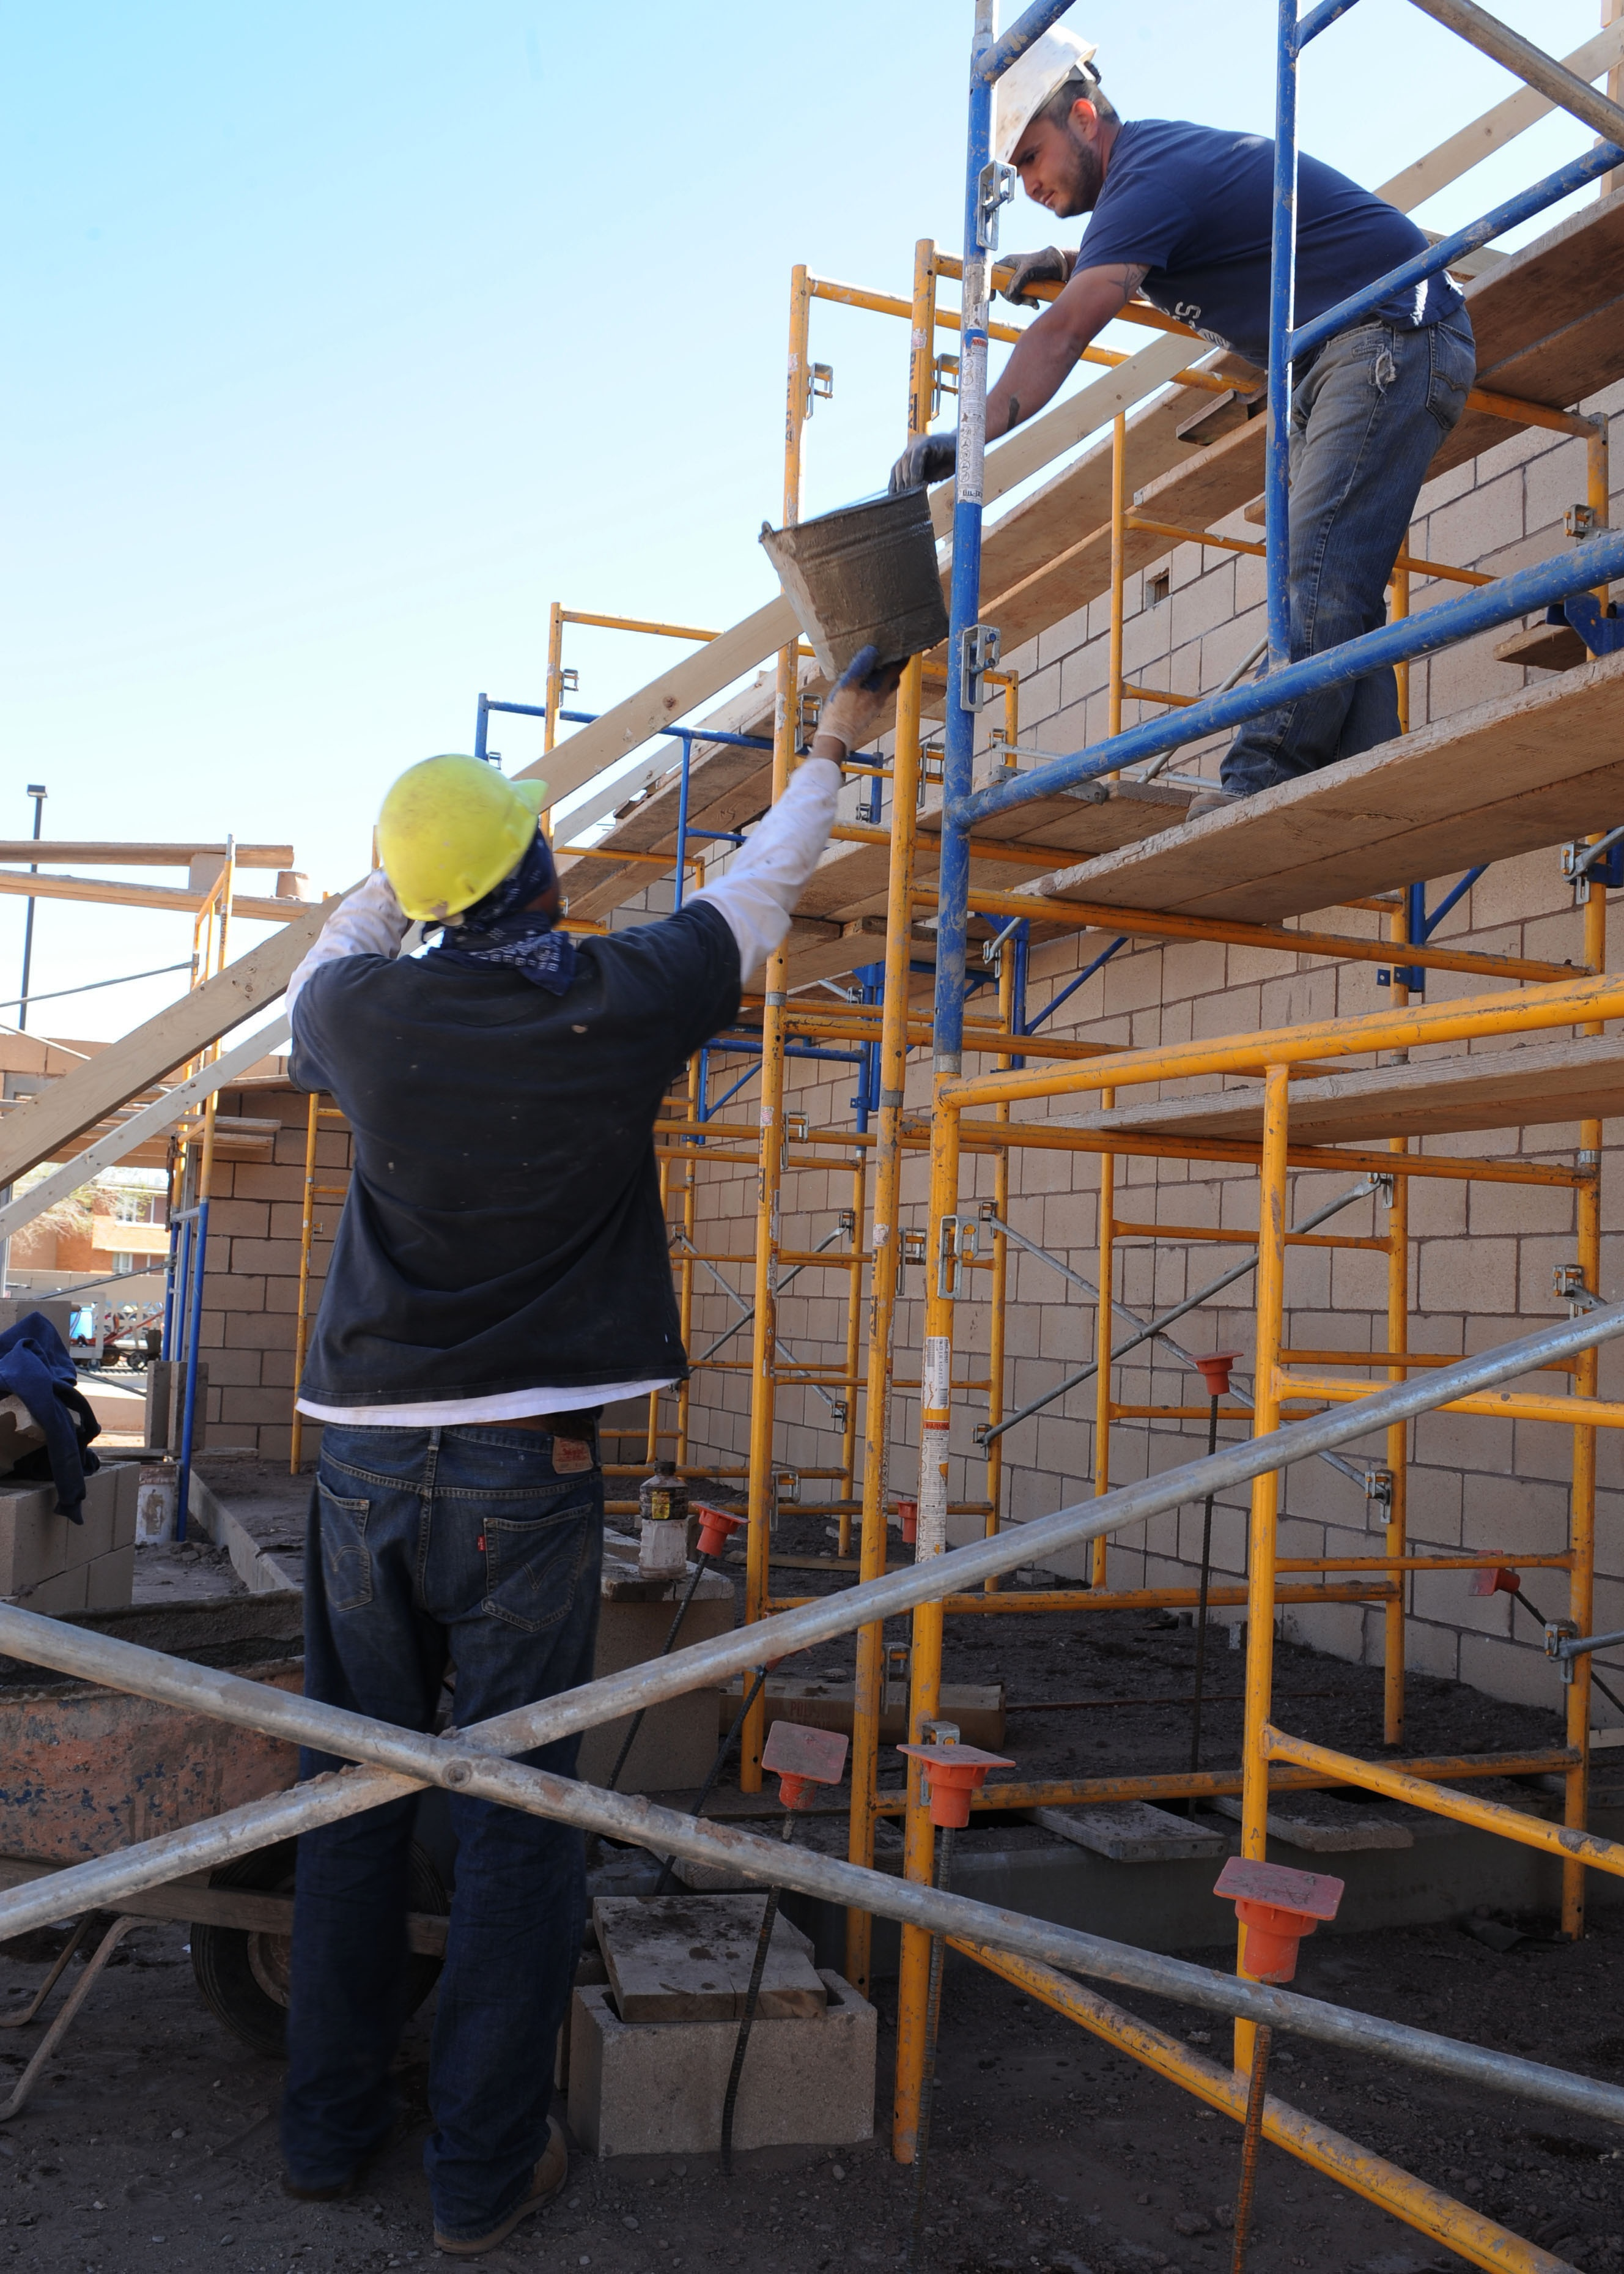white: (979, 35, 1104, 214)
yellow: (376, 749, 562, 949)
